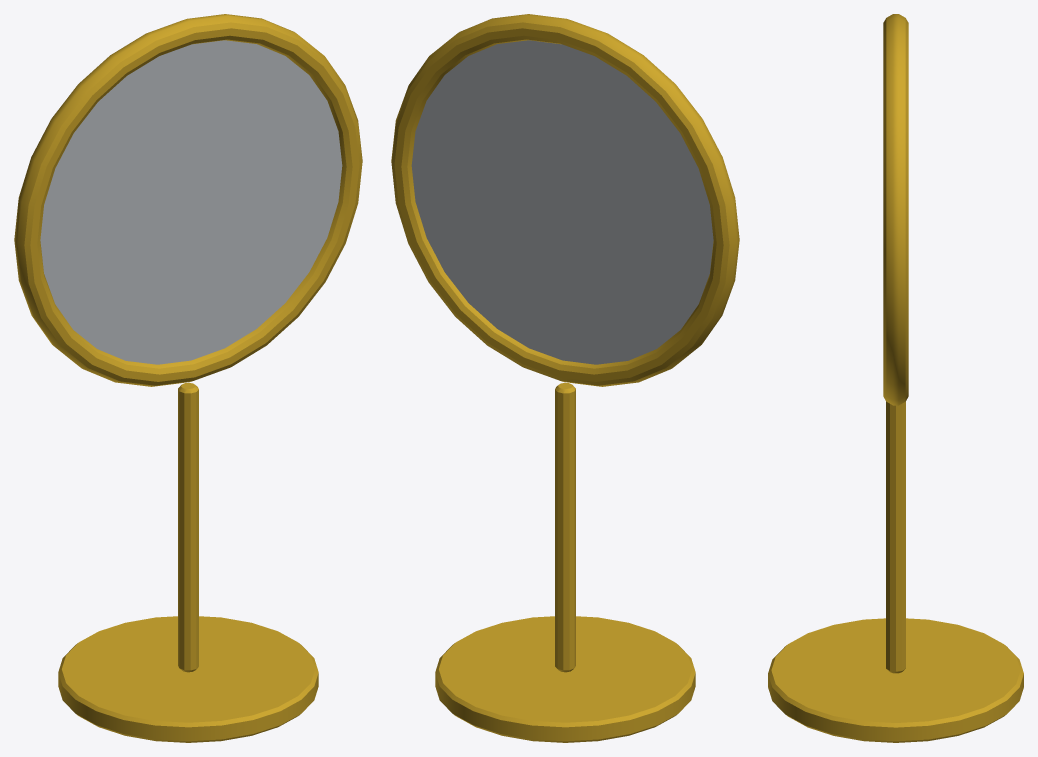
File: prop_mirror_counter.glb
The picture shows the model from 3 angles, left to right: view 1: azimuth 30°, elevation 25°; view 2: azimuth 150°, elevation 25°; view 3: azimuth 270°, elevation 25°; orthographic projection.
Parts seen in each view (by area): view 1: Mirror; view 2: Mirror; view 3: Mirror.
Boxes of the visible parts, <box> form: Mirror: <box>14,14,362,742</box>; Mirror: <box>391,14,739,742</box>; Mirror: <box>768,14,1023,742</box>.
Size of the model in its own units: 0.2141 by 0.3971 by 0.14.
